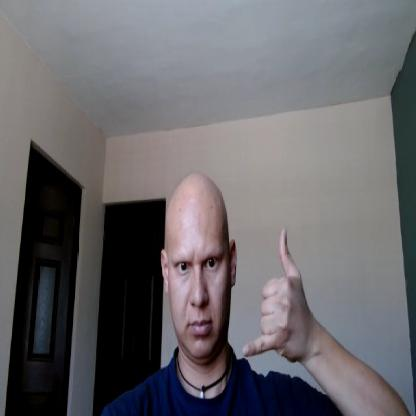Y: (242, 227, 312, 362)
